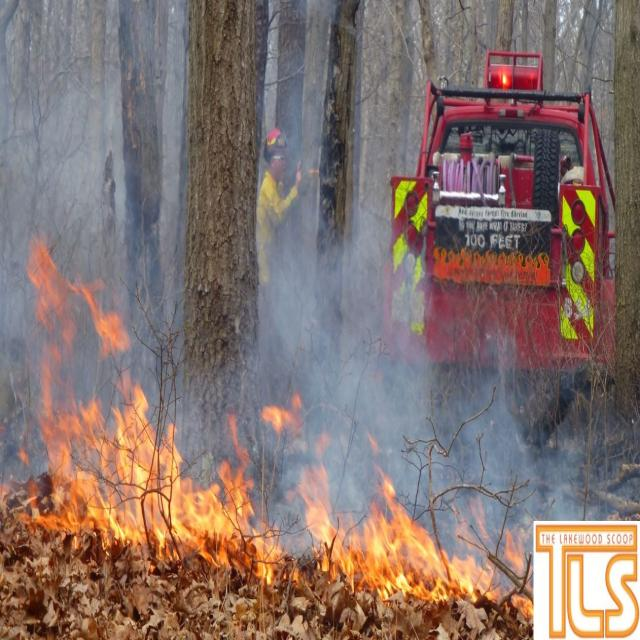Fire: (25, 274, 516, 611)
Smoke: (18, 93, 540, 490)
